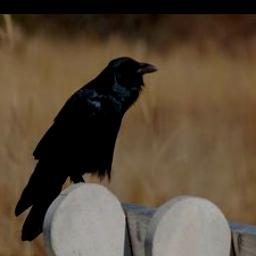Crow: (14, 56, 158, 243)
